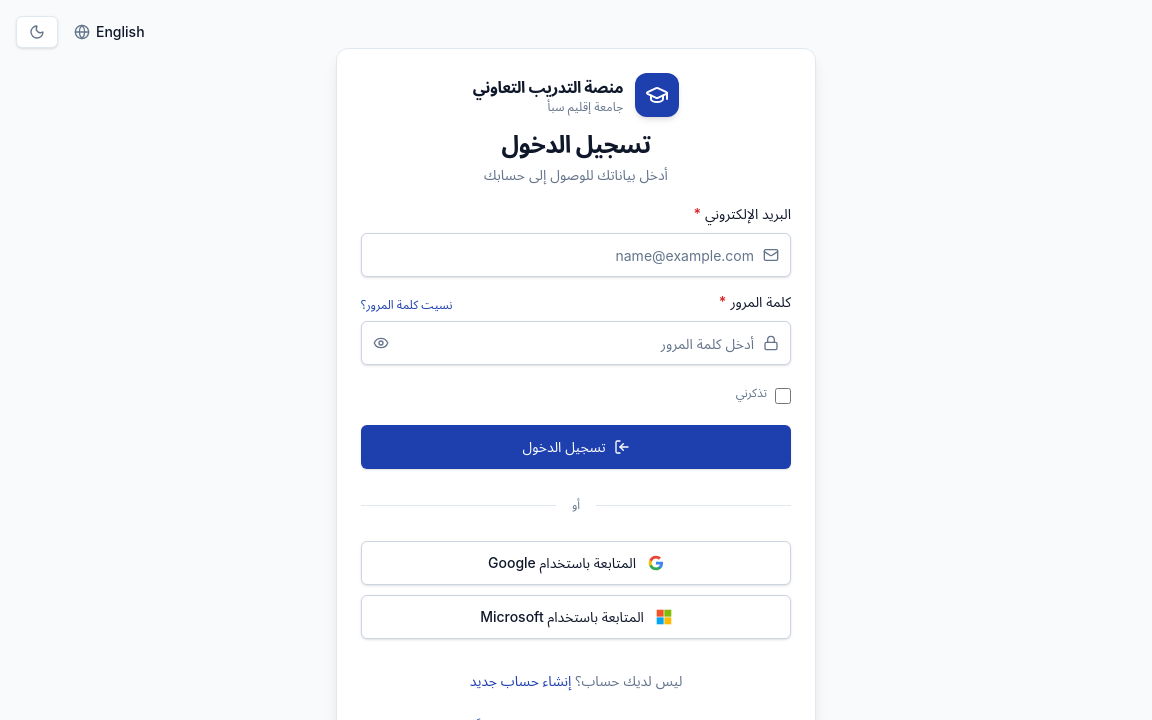
it: LoginPage Component (TEP-563 Wired Flow) › displays suspended account error when login fails with account_suspended
Type "suspended@example.com" into the field labelled "البريد الإلكتروني*". click: (576, 255)
box: [361,233,791,277]
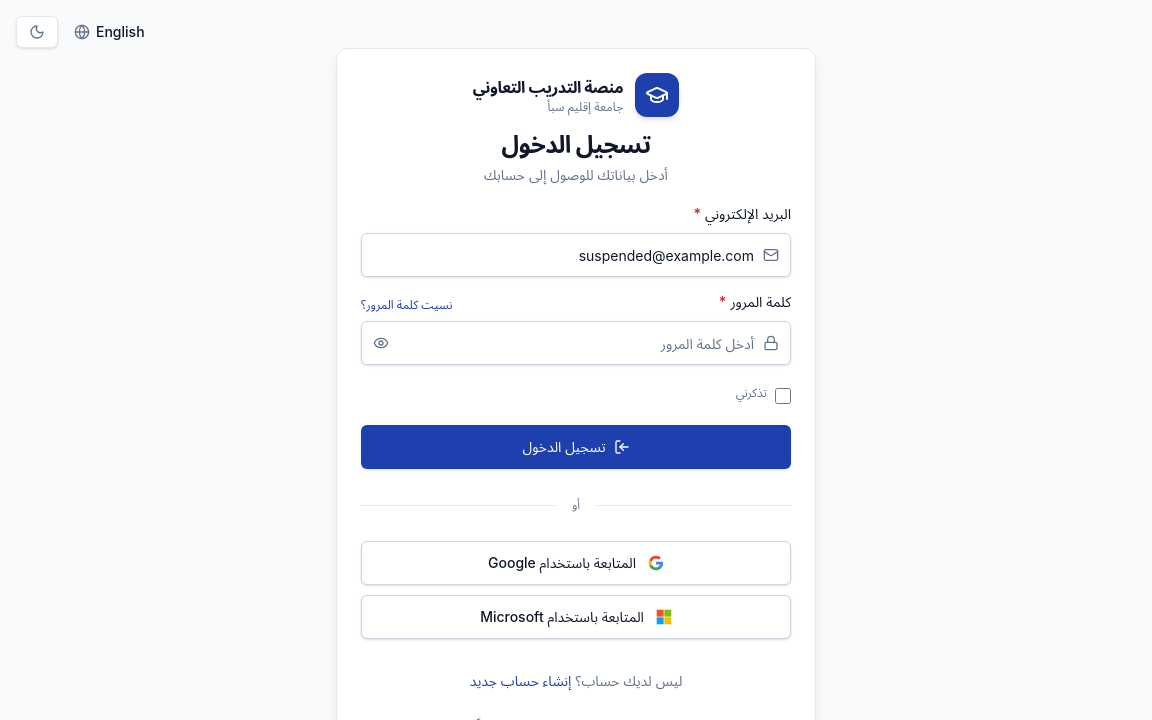
Type "SecurePass123!" into the password field labelled "كلمة المرور*". click: (576, 343)
box: [361,321,791,365]
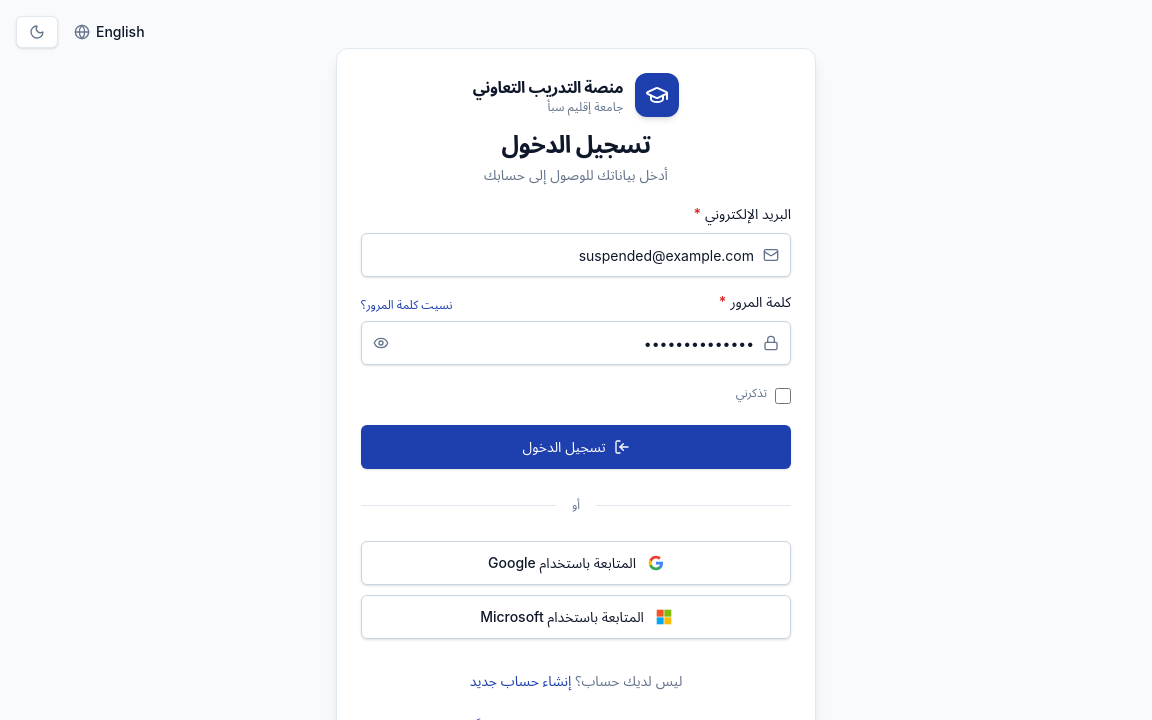
Click the button "تسجيل الدخول". click: (576, 447)
box: [361,425,791,469]
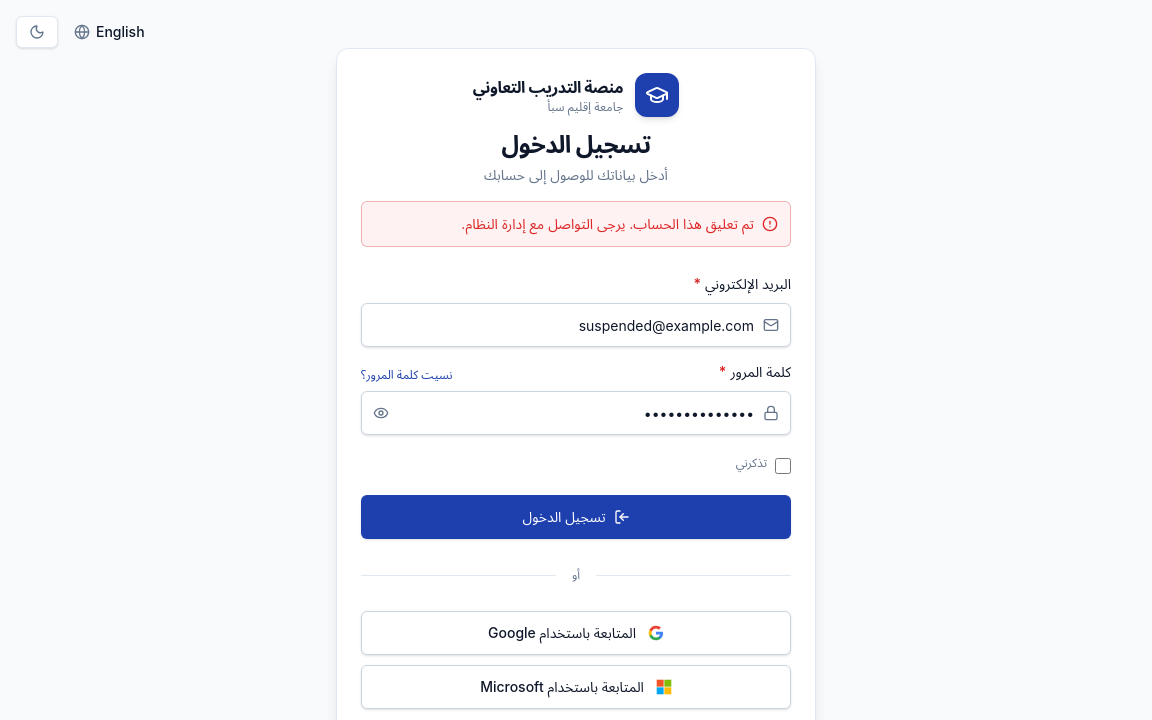
Now the text "تم تعليق هذا الحساب. يرجى التواصل مع إدارة النظام." is shown, box [461,214,754,234]
